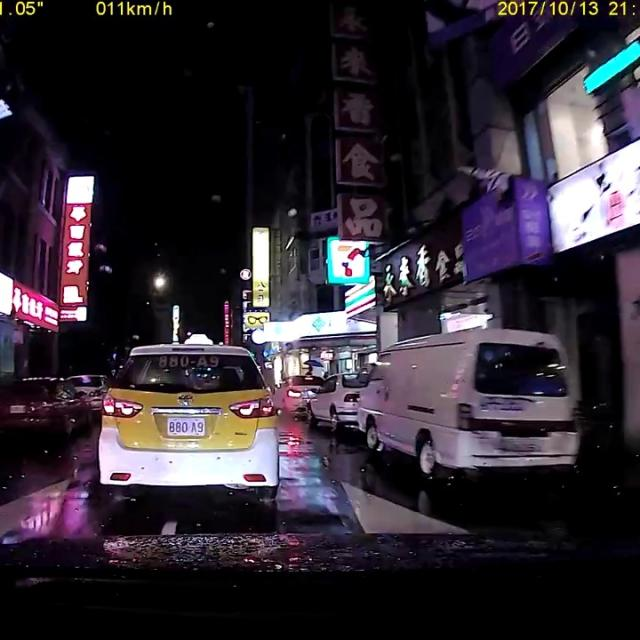Car: (95, 341, 279, 496), (353, 331, 578, 449), (1, 374, 85, 431), (311, 368, 376, 428), (269, 372, 321, 411), (69, 372, 105, 415)
